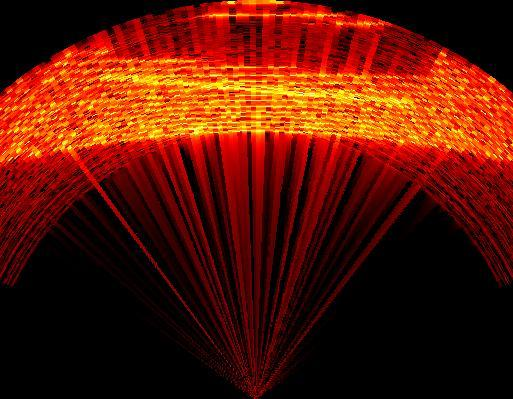pipe: (62, 16, 445, 103)
